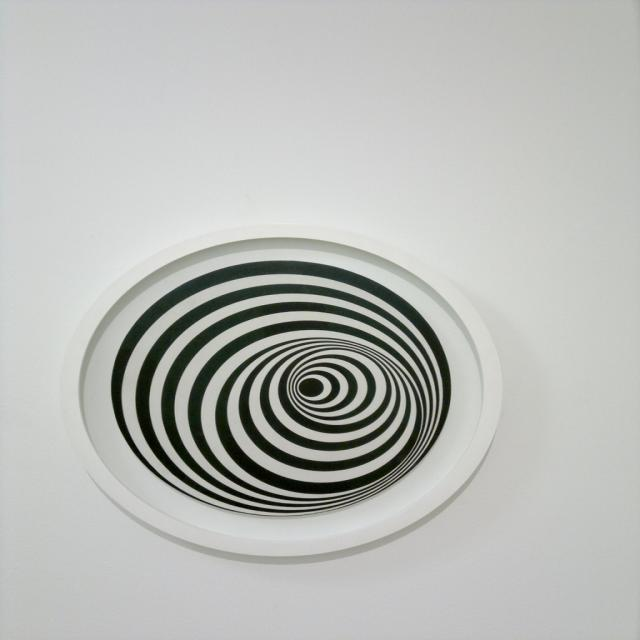non-organic waste: (86, 206, 503, 591)
